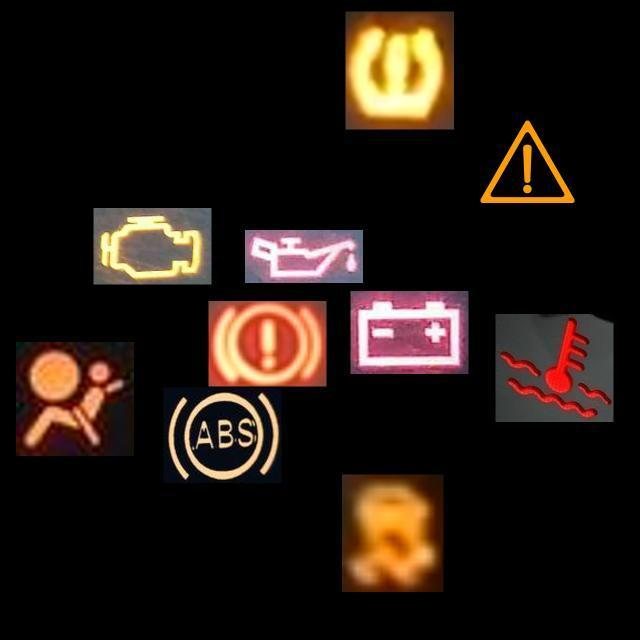Central Warning lamp: (468, 103, 586, 221)
Engine cooling system: (496, 314, 614, 422)
